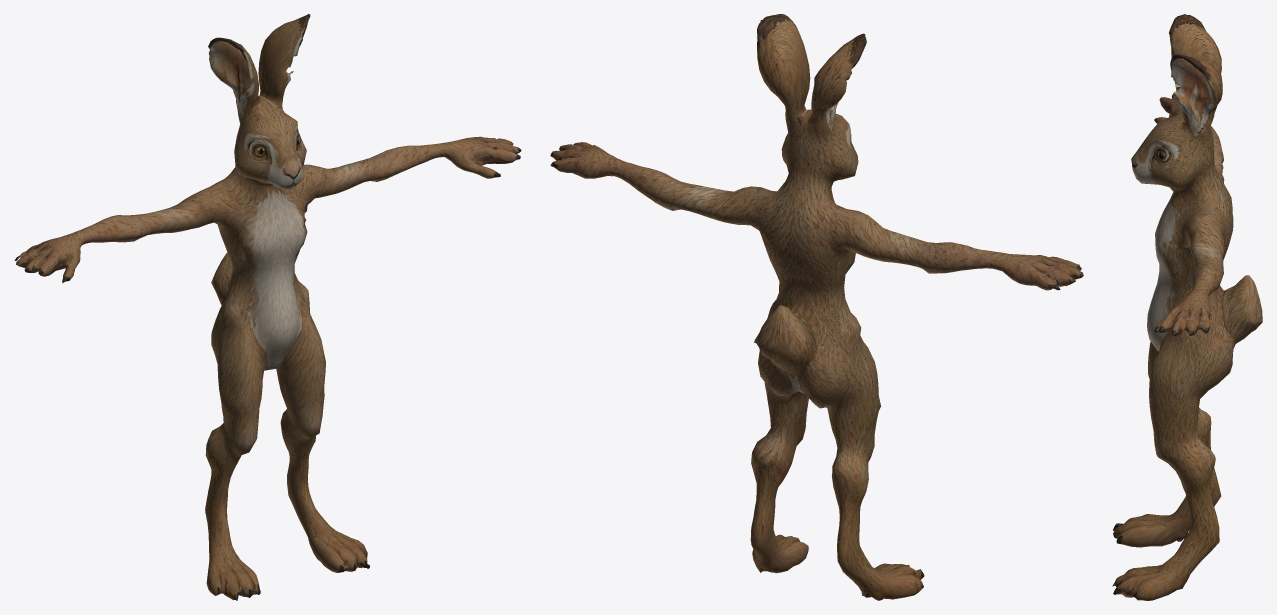
Rendered from Hare_E.fbx.
The picture shows the model from 3 angles, left to right: view 1: azimuth 30°, elevation 25°; view 2: azimuth 150°, elevation 25°; view 3: azimuth 270°, elevation 25°; orthographic projection. The views are drawn at different scales.
Visible parts, largest first — view 1: Hare_E; view 2: Hare_E; view 3: Hare_E.
Part boxes in pixels (x1=…): Hare_E: x1=14, y1=14, x2=521, y2=600; Hare_E: x1=550, y1=14, x2=1083, y2=600; Hare_E: x1=1112, y1=14, x2=1262, y2=600.
Bounding box in the file's own units: 0.9586 × 0.9877 × 0.2541.
1 material, 1 textured.
